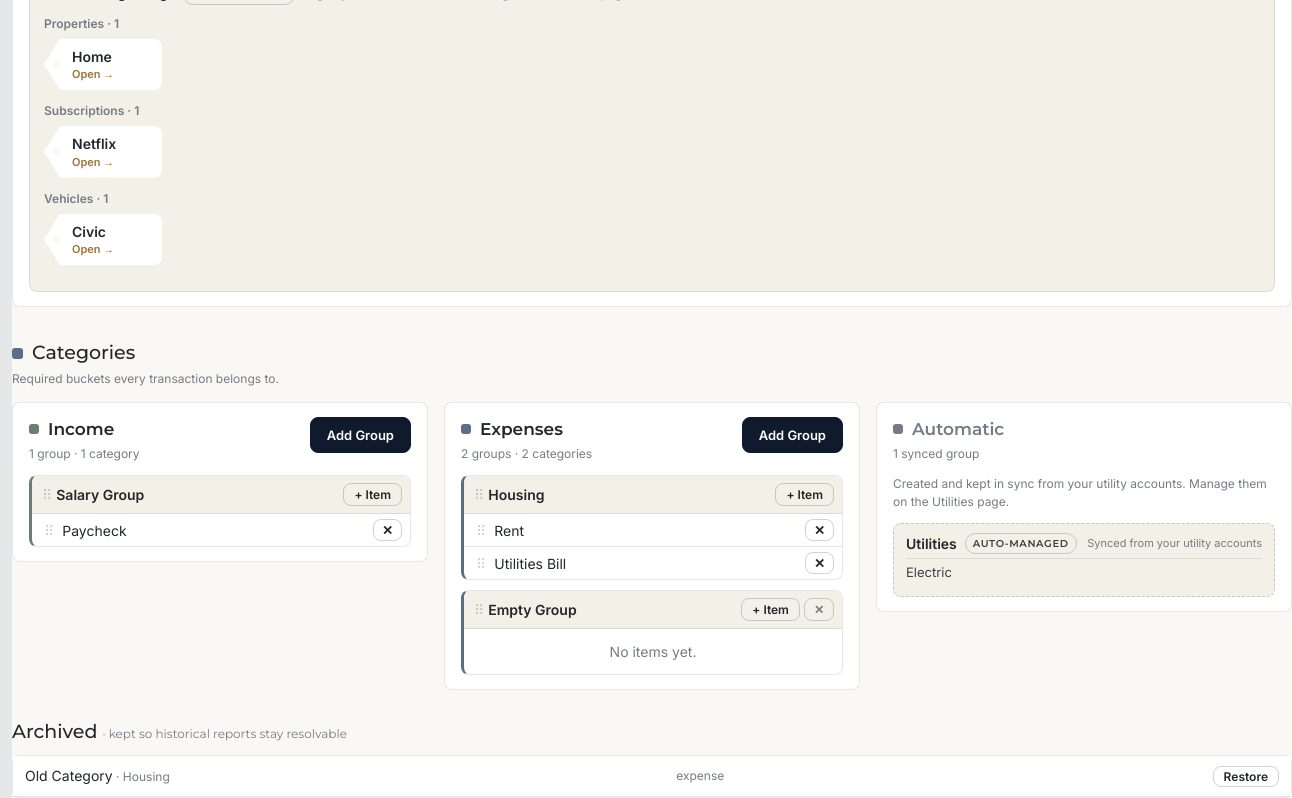
Scenario: Categories page › cancels an inline rename on Escape
The width and height of the screenshot is (1292, 798).
(page scrolled)
Click the text "Rent". click: point(509, 530)
box: 494,522 -> 524,538
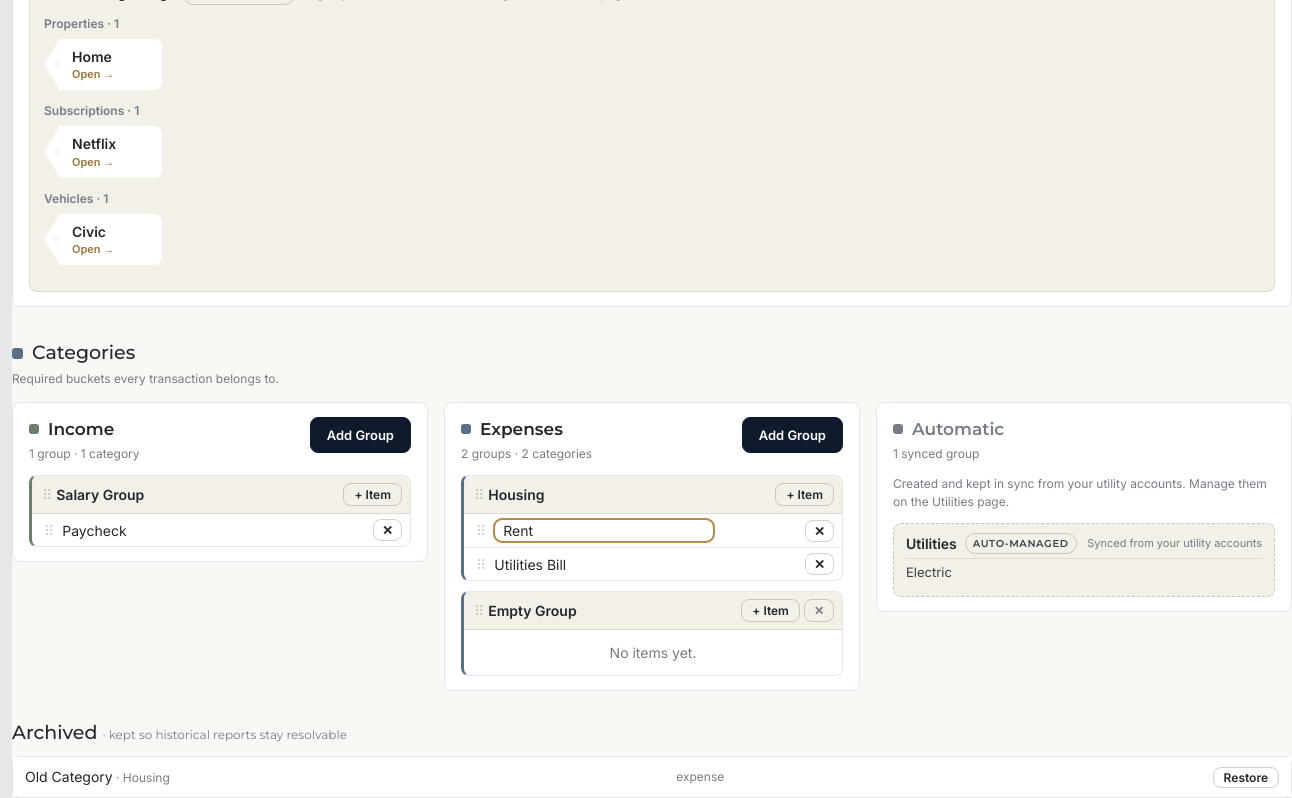
Type "zzz" into the field showing "Rent". click: point(604, 530)
box: 494,519 -> 714,542
Then press Escape
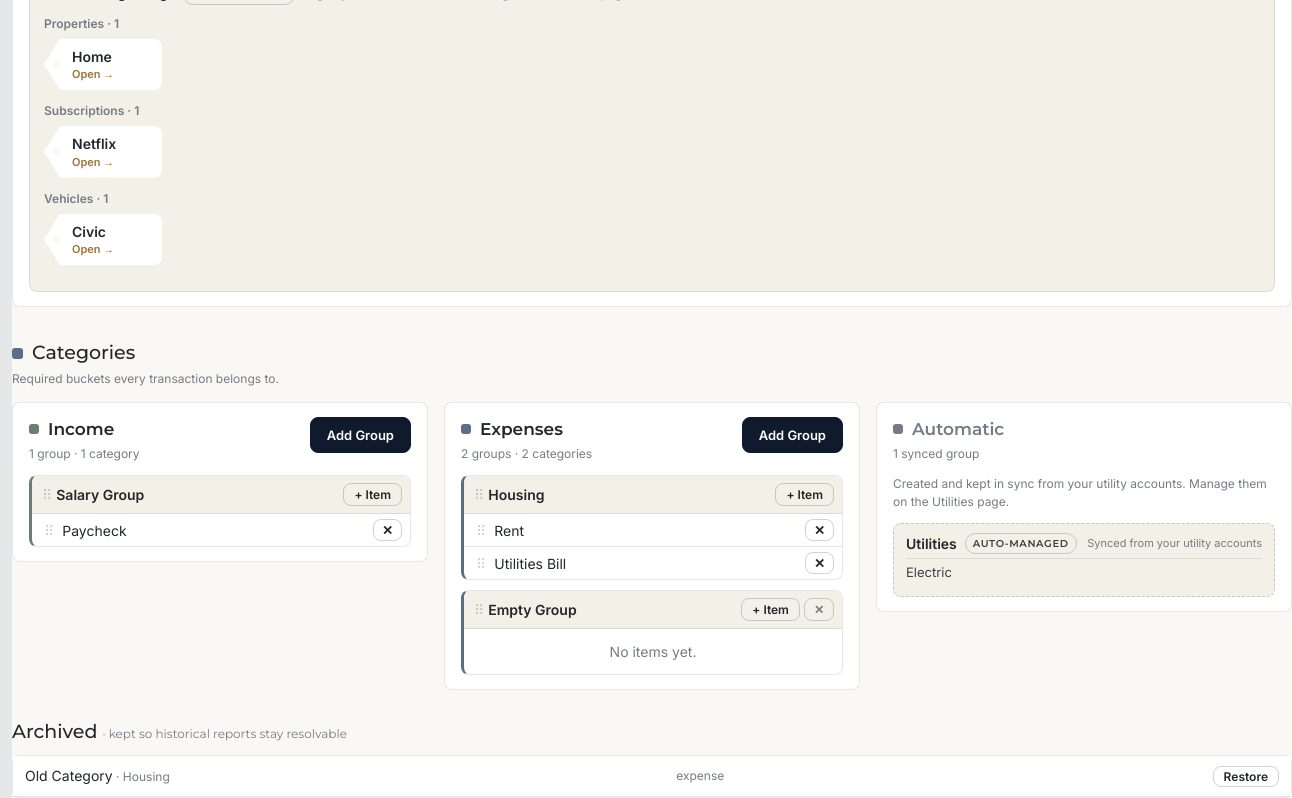
Result: the text "Rent" is shown at 494,522 -> 524,538
